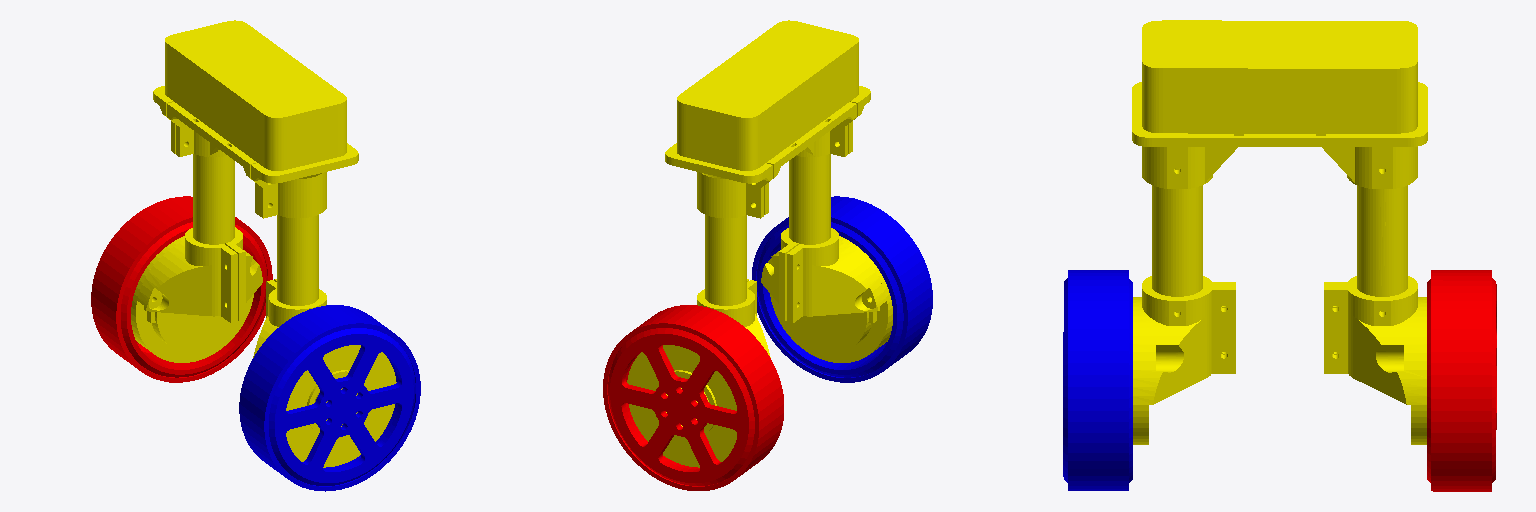
URDF robot description (InvertPendulam):
<?xml version="1.0"?>
<robot name="InvertPendulam">

  <mujoco>
    <!-- <compiler meshdir="../meshes/" balanceinertia="true" /> -->
    <default>
      <geom friction="1.0 0.005 0.0001" />
    </default>
  </mujoco>

  <!-- material color setting -->
  <material name="#ffffff">
    <color rgba="1.000 1.000 1.000 1.0" />
  </material>
  <material name="#fff700">
    <color rgba="1.000 0.969 0.000 1.0" />
  </material>
  <material name="#ff0004">
    <color rgba="1.000 0.000 0.016 1.0" />
  </material>
  <material name="#0700ff">
    <color rgba="0.031 0.000 1.000 1.0" />
  </material>

  <link name="base_link">
    <inertial>
      <origin xyz="0 0 0" rpy="0 0 0" />
      <mass value="0.0" />
      <inertia ixx="0.01" ixy="0.0" ixz="0.0" iyy="0.01" iyz="0.0" izz="0.01" />
    </inertial>
  </link>

  <joint name="base_link_to_InvertPendualm_mainBody_CoG_origin" type="fixed">
    <origin xyz="0 0 0" rpy="0.0 0.0 1.57" />
    <axis xyz="1 0 0" />
    <parent link="base_link" />
    <child link="InvertPendualm_mainBody_CoG_origin" />
  </joint>

  <link name="InvertPendualm_mainBody_CoG_origin">
    <inertial>
      <origin xyz="0 0 0" rpy="0 0 0" />
      <mass value="1.1515" />
      <inertia ixx="0.0071955" ixy="-1.645e-8" ixz="3e-8" iyy="0.0121364" iyz="-0.0000054"
        izz="0.00569466" />
    </inertial>
    <visual>
      <origin xyz="0 0 0" rpy="0 0 0" />
      <geometry>
        <mesh filename="../meshes/InvertPendualm_mainBody_CoG_origin_binary.stl" />
      </geometry>
      <material name="#fff700" />
    </visual>
    <collision>
      <origin xyz="0 0 0" rpy="0 0 0" />
      <geometry>
        <mesh filename="../meshes/InvertPendualm_mainBody_CoG_origin_binary.stl" />
      </geometry>
    </collision>
  </link>

  <joint name="InvertPendualm_mainBody_CoG_origin_to_InvertPendulam_wheel_left_center_origin"
    type="continuous">
    <origin xyz="0.0 0.0 -0.0605" rpy="0.0 0.0 0.0" />
    <axis xyz="1 0 0" />
    <parent link="InvertPendualm_mainBody_CoG_origin" />
    <child link="InvertPendulam_wheel_left_center_origin" />
    <limit effort="12.0" velocity="31.0" />
  </joint>

  <link name="InvertPendulam_wheel_left_center_origin">
    <inertial>
      <origin xyz="0 0 0" rpy="0 0 0" />
      <mass value="0.06360116" />
      <inertia ixx="0.00014101" ixy="0.0" ixz="0.0" iyy="0.00007681" iyz="0.0"
        izz="0.00007681" />
    </inertial>
    <visual>
      <origin xyz="0 0 0" rpy="0 0 0" />
      <geometry>
        <mesh filename="../meshes/InvertPendulam_wheel_left_center_origin_binary.stl" />
      </geometry>
      <material name="#ff0004" />
    </visual>
    <collision>
      <origin xyz="0 0 0" rpy="0 0 0" />
      <geometry>
        <mesh filename="../meshes/InvertPendulam_wheel_left_center_origin_binary.stl" />
      </geometry>
    </collision>
  </link>

  <joint name="InvertPendualm_mainBody_CoG_origin_to_InvertPendulam_wheel_right_center_origin"
    type="continuous">
    <origin xyz="0.0 0.0 -0.0605" rpy="0.0 0.0 0.0" />
    <axis xyz="1 0 0" />
    <parent link="InvertPendualm_mainBody_CoG_origin" />
    <child link="InvertPendulam_wheel_right_center_origin" />
    <limit effort="12.0" velocity="31.0" />
  </joint>

  <link name="InvertPendulam_wheel_right_center_origin">
    <inertial>
      <origin xyz="0 0 0" rpy="0 0 0" />
      <mass value="0.06360116" />
      <inertia ixx="0.00014101" ixy="0.0" ixz="0.0" iyy="0.00007681" iyz="0.0"
        izz="0.00007681" />
    </inertial>
    <visual>
      <origin xyz="0 0 0" rpy="0 0 0" />
      <geometry>
        <mesh filename="../meshes/InvertPendulam_wheel_right_center_origin_binary.stl" />
      </geometry>
      <material name="#0700ff" />
    </visual>
    <collision>
      <origin xyz="0 0 0" rpy="0 0 0" />
      <geometry>
        <mesh filename="../meshes/InvertPendulam_wheel_right_center_origin_binary.stl" />
      </geometry>
    </collision>
  </link>

  <transmission name="wheel_left_trans">
    <type>transmission_interface/SimpleTransmission</type>
    <joint name="InvertPendualm_mainBody_CoG_origin_to_InvertPendulam_wheel_left_center_origin">
      <hardwareInterface>hardware_interface/EffortJointInterface</hardwareInterface>
    </joint>
    <actuator name="wheel_left_motor">
      <mechanicalReduction>1</mechanicalReduction>
    </actuator>
  </transmission>

  <transmission name="wheel_right_trans">
    <type>transmission_interface/SimpleTransmission</type>
    <joint name="InvertPendualm_mainBody_CoG_origin_to_InvertPendulam_wheel_right_center_origin">
      <hardwareInterface>hardware_interface/EffortJointInterface</hardwareInterface>
    </joint>
    <actuator name="wheel_right_motor">
      <mechanicalReduction>1</mechanicalReduction>
    </actuator>
  </transmission>


</robot>

--- Render facts (derived) ---
Views: 3 orthographic renders of the robot side by side, from view 1: azimuth 30°, elevation 25°; view 2: azimuth 150°, elevation 25°; view 3: azimuth 270°, elevation 25°.
Robot: InvertPendulam — 4 links, 3 joints (2 continuous, 1 fixed); root link base_link; default pose: all joints at 0.
Visible links, largest first — view 1: InvertPendualm_mainBody_CoG_origin, InvertPendulam_wheel_right_center_origin, InvertPendulam_wheel_left_center_origin; view 2: InvertPendualm_mainBody_CoG_origin, InvertPendulam_wheel_left_center_origin, InvertPendulam_wheel_right_center_origin; view 3: InvertPendualm_mainBody_CoG_origin, InvertPendulam_wheel_left_center_origin, InvertPendulam_wheel_right_center_origin.
Link boxes in pixels (x1,y1,x2,y2): InvertPendualm_mainBody_CoG_origin: [131, 20, 396, 467]; InvertPendulam_wheel_right_center_origin: [239, 305, 420, 491]; InvertPendulam_wheel_left_center_origin: [91, 196, 272, 382]; InvertPendualm_mainBody_CoG_origin: [627, 20, 892, 467]; InvertPendulam_wheel_left_center_origin: [603, 305, 783, 490]; InvertPendulam_wheel_right_center_origin: [752, 196, 932, 382]; InvertPendualm_mainBody_CoG_origin: [1132, 20, 1427, 444]; InvertPendulam_wheel_left_center_origin: [1427, 270, 1496, 491]; InvertPendulam_wheel_right_center_origin: [1063, 270, 1132, 490].
Size in the robot's own frame: 0.108 by 0.2113 by 0.235 metres.
3 mesh visuals loaded from 3 distinct referenced files (3 binary STL).
